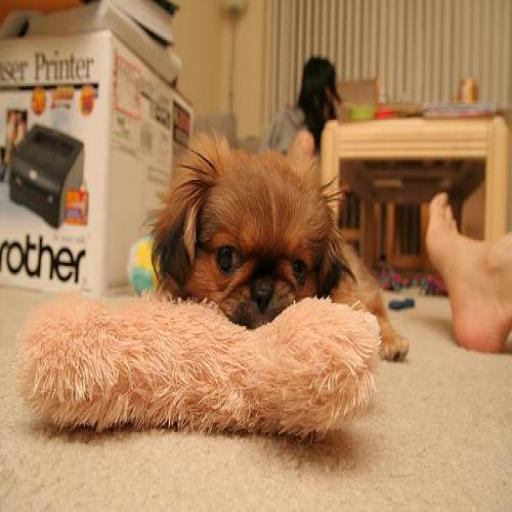dog_face: (160, 147, 366, 345)
